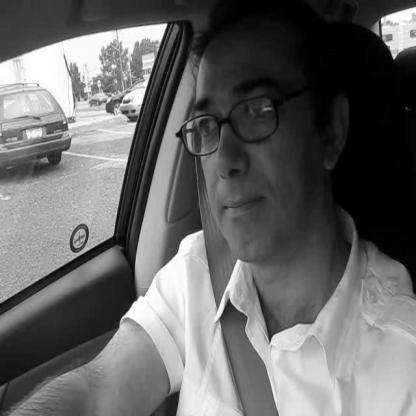seatbelt: (162, 0, 384, 416)
